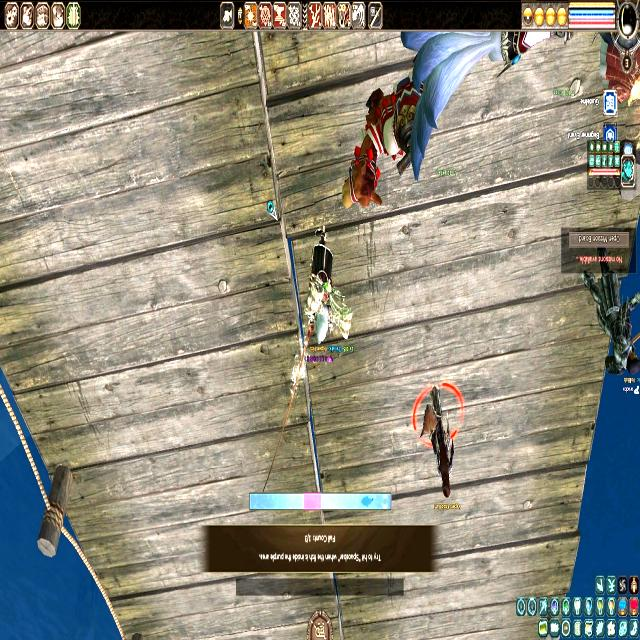fishes: (361, 495, 373, 509)
